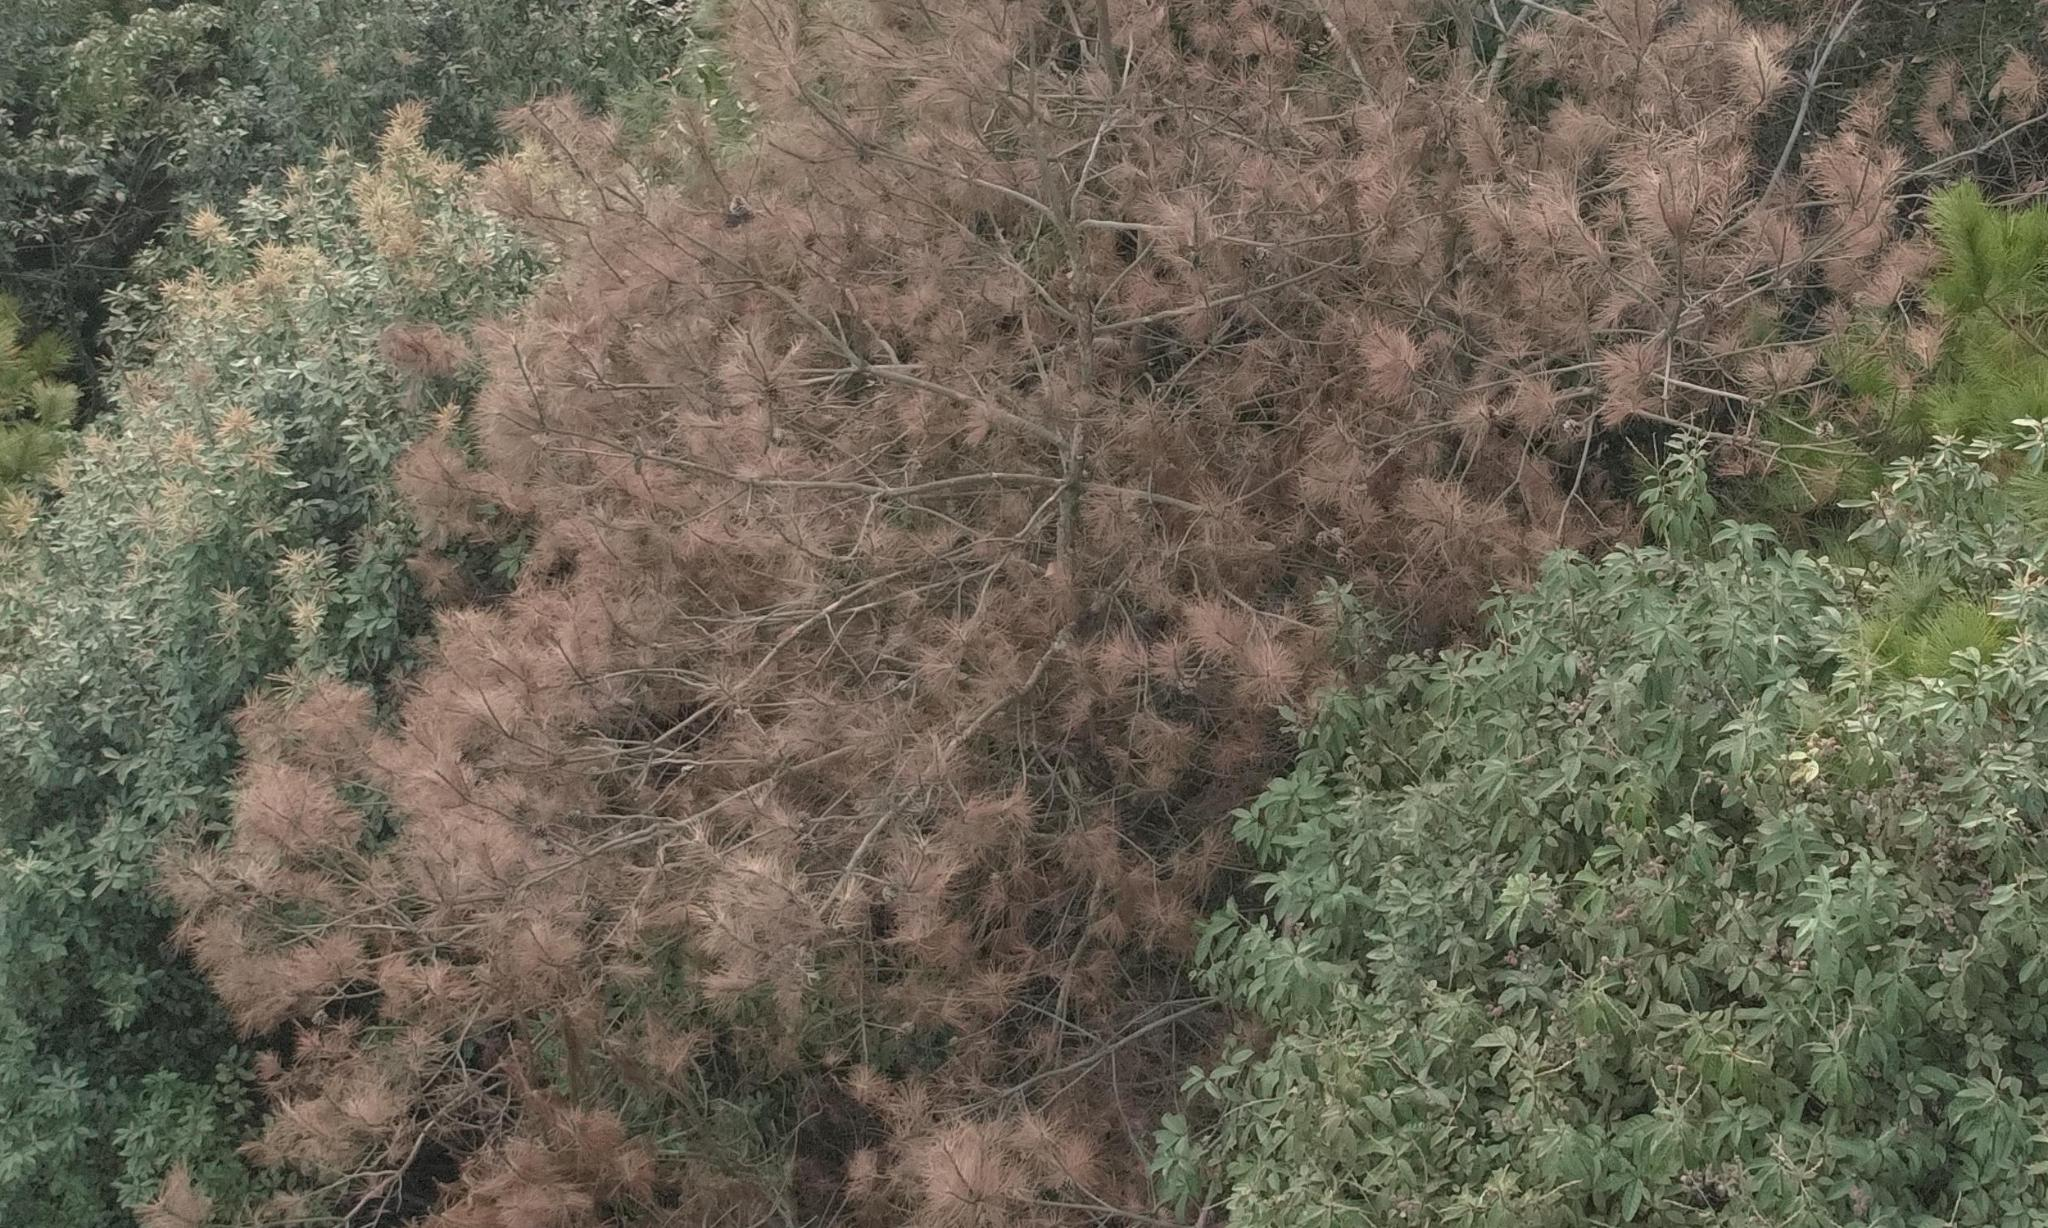heavy: (168, 0, 1896, 1202)
